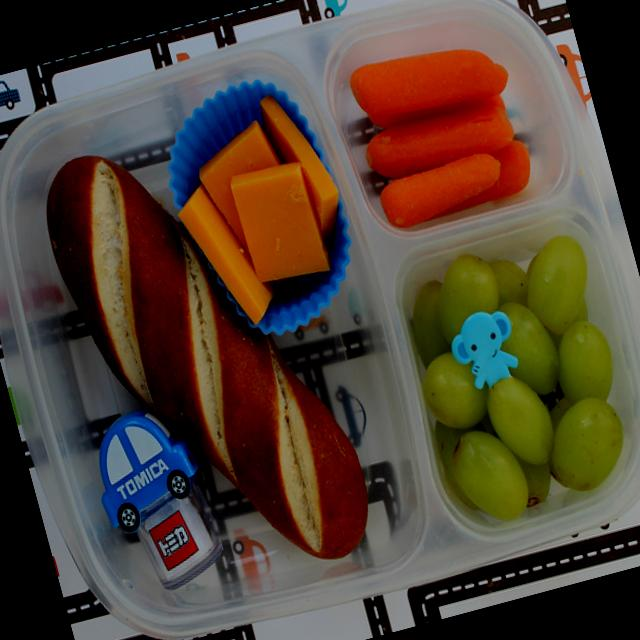Vehicle: (81, 399, 213, 538)
